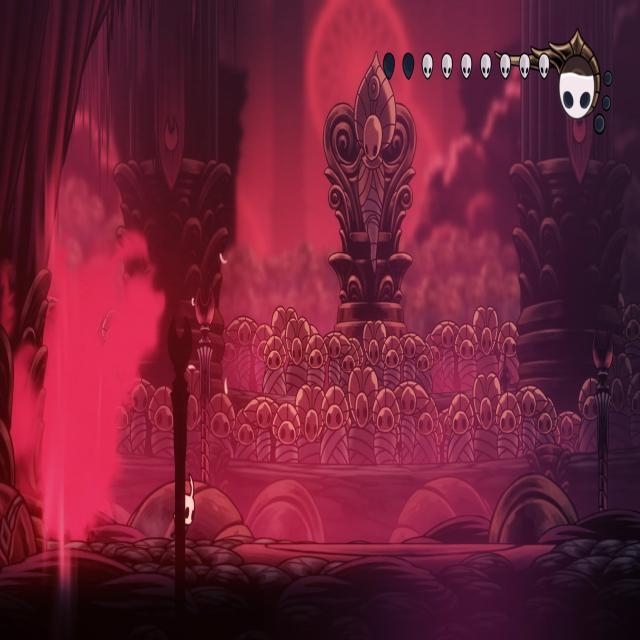Player: (163, 468, 199, 541)
